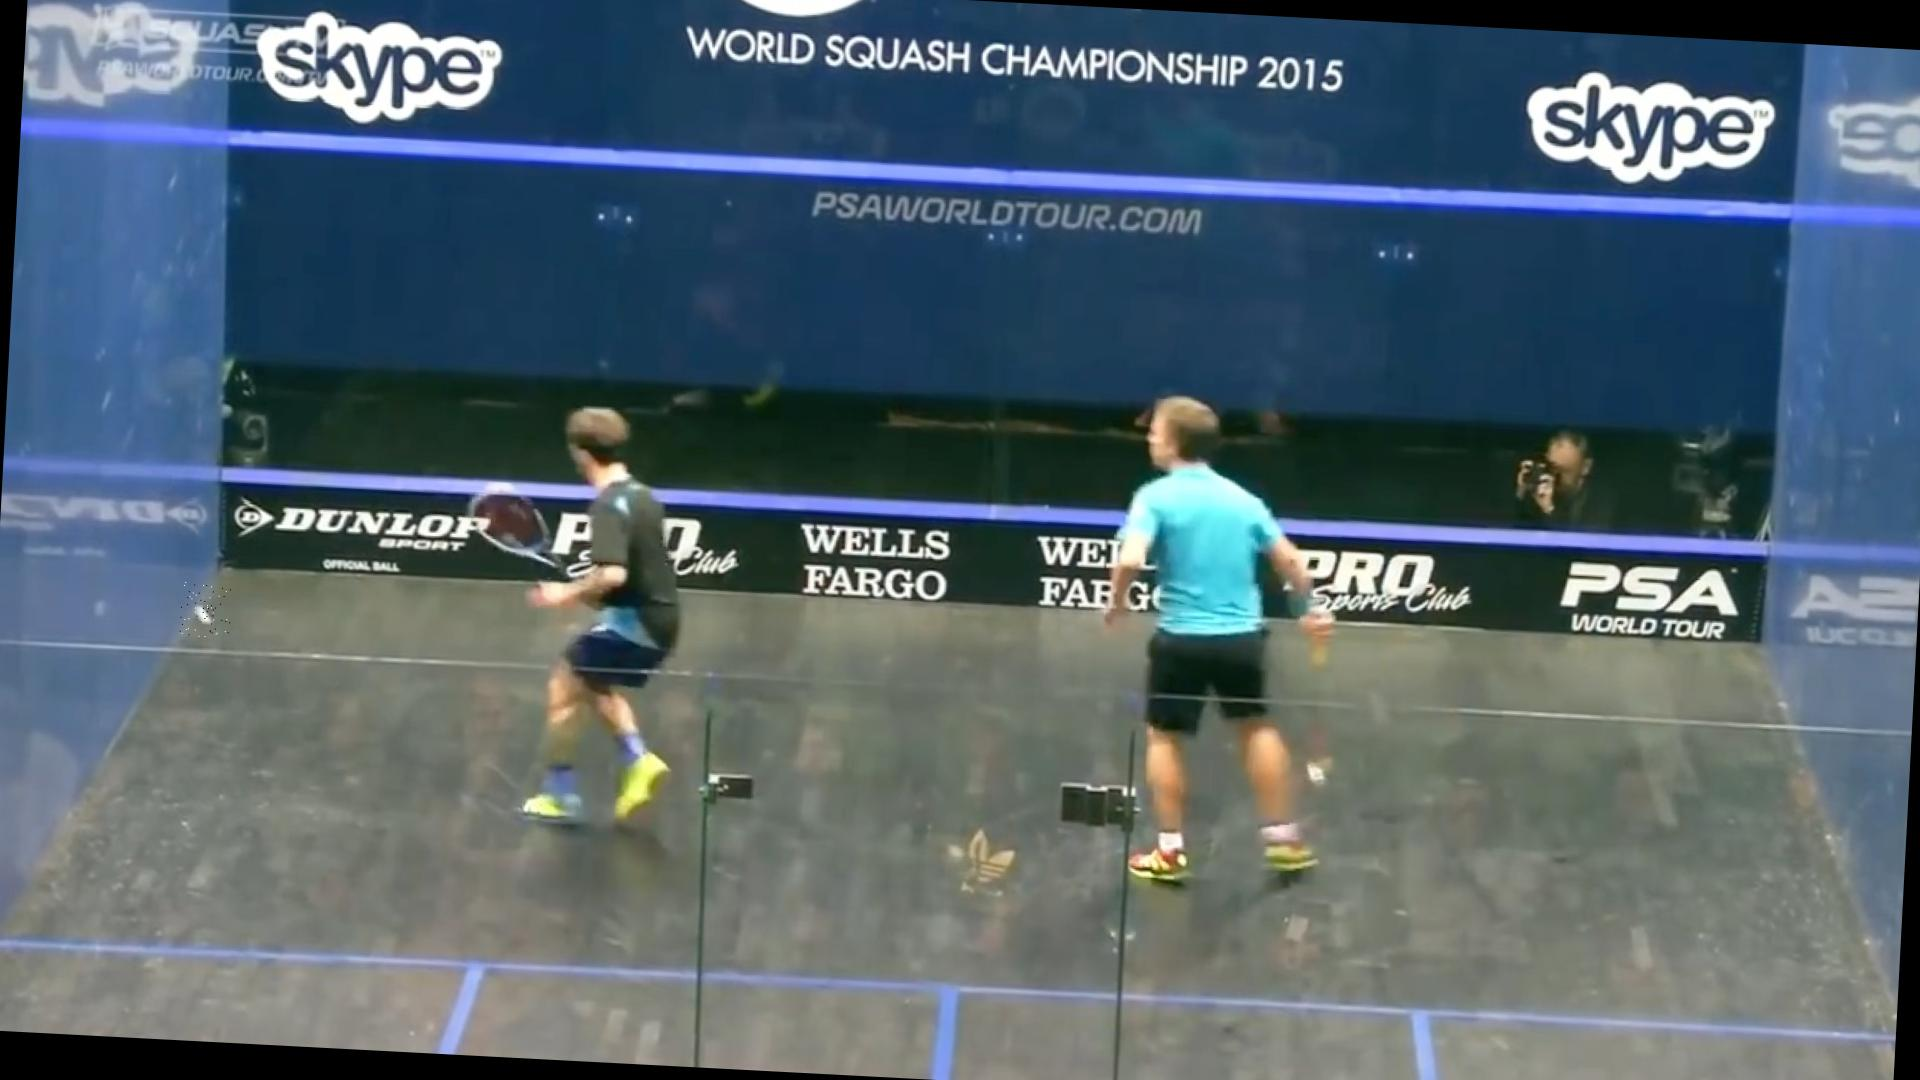Squash-Ball: (179, 582, 233, 637)
